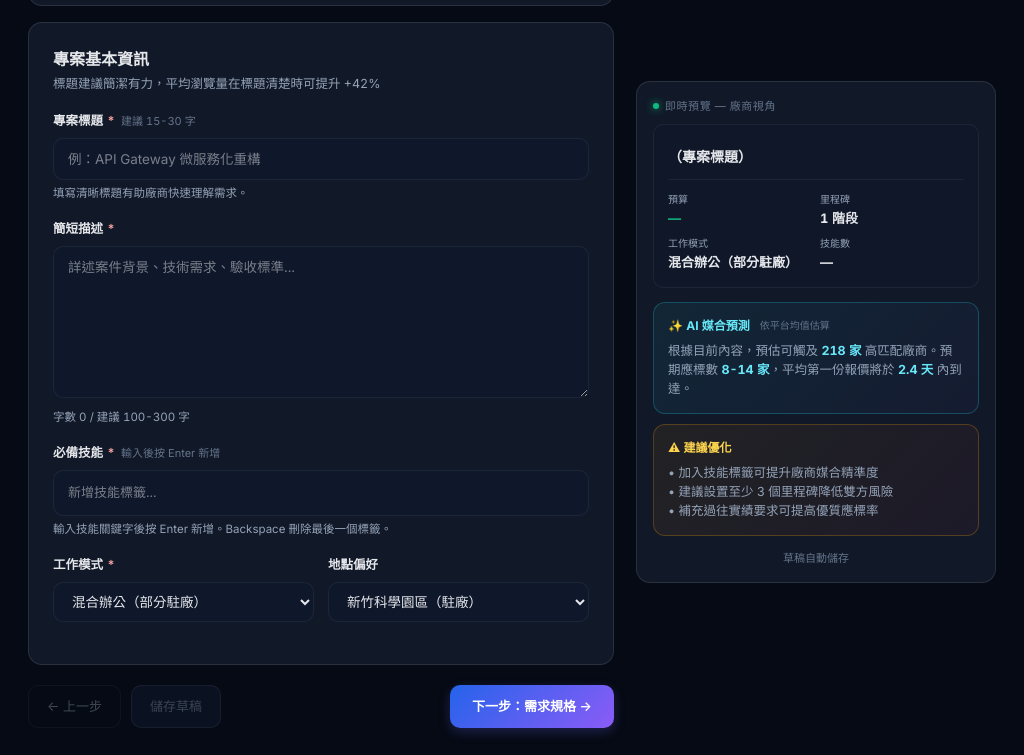
Scenario: PostJobPage › Step 1 — 基本資訊 › blocks 下一步 and shows inline error when required fields (category/title/description) are empty
(page scrolled)
Note: Do NOT fill any fields
Click the button "下一步：需求規格 →": click(532, 707) [450,685,614,728]
(page scrolled)
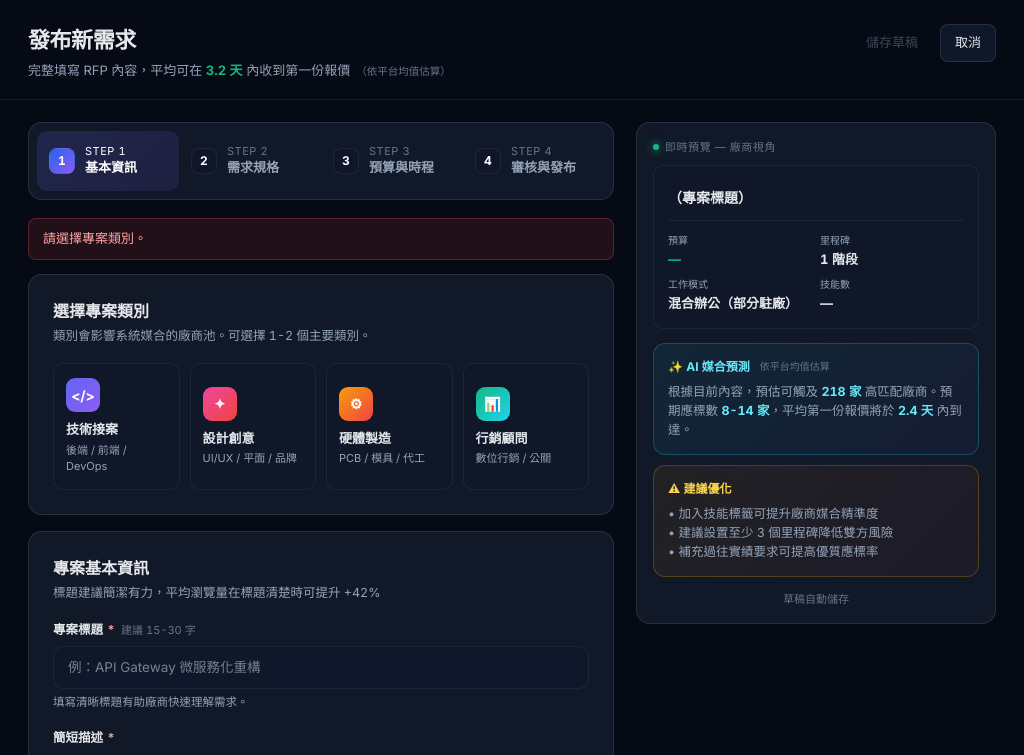
Expected: the heading "選擇專案類別" is shown, [53,301,149,321]
Expected: the message "請選擇專案類別。" is shown, [28,218,614,260]
